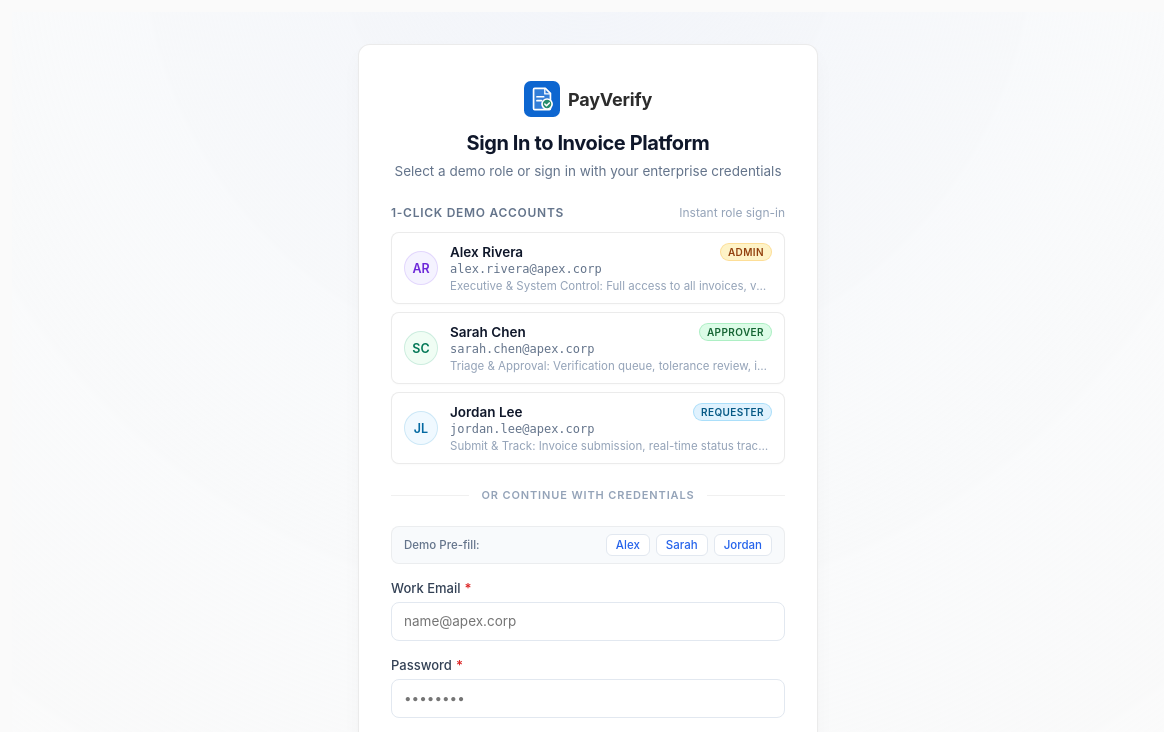
Test: LandingPage (PayVerify Enterprise Authentication Landing) › 1-Click Persona Sign-In Section › signs in as Admin in 1-click and redirects to root dashboard
Click the button with test id "quick-login-Admin" at (588, 268), box [391, 232, 785, 304]
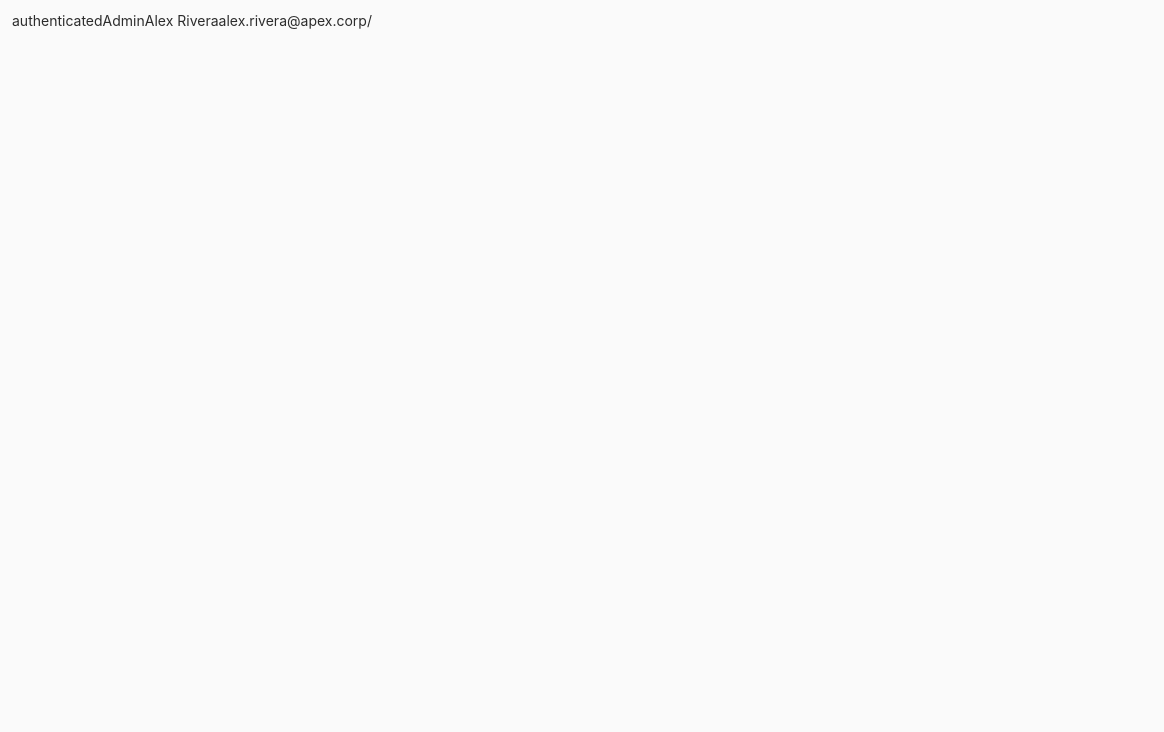
Expected: the text with test id "auth-role" reads "Admin", [103, 12, 145, 29]
Result: the element with test id "dashboard-view" is shown at [12, 12, 372, 29]
